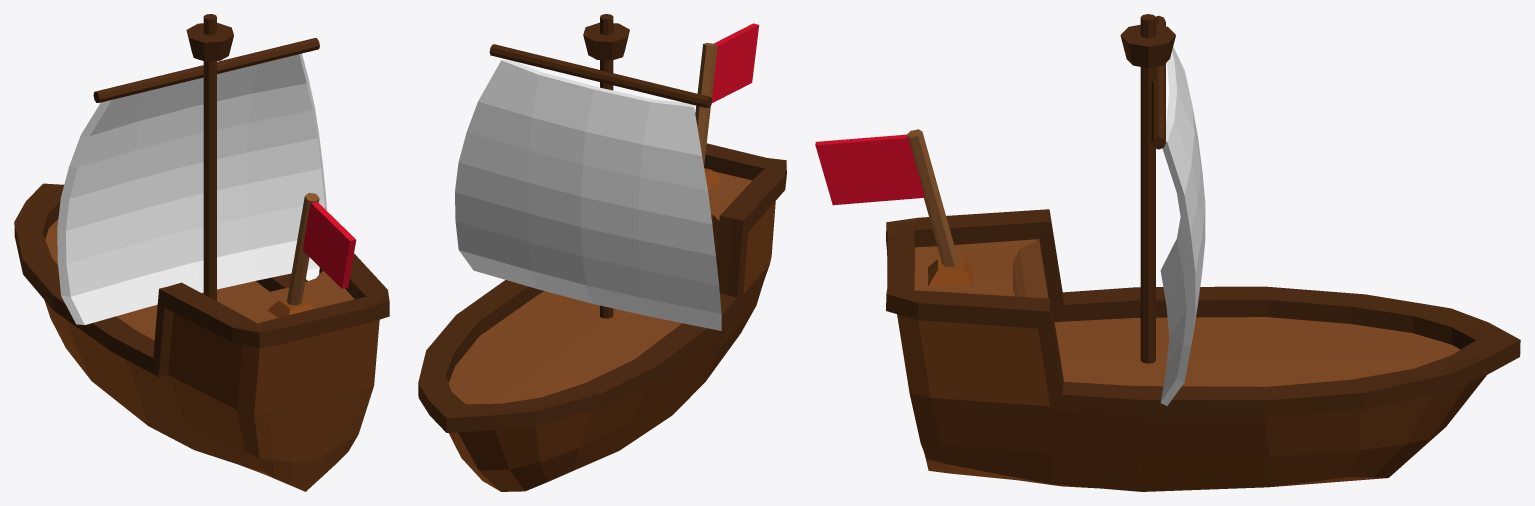
Rendered from PirateShipEasy.fbx.
3 views of the same model, side by side, from view 1: azimuth 30°, elevation 25°; view 2: azimuth 150°, elevation 25°; view 3: azimuth 270°, elevation 25° (orthographic). The views are drawn at different scales.
Visible parts, largest first — view 1: Ship, Cube.001, Mast, Cube.004, Cylinder.001, Cylinder.004, Cube.005; view 2: Cube.001, Ship, Cylinder.001, Cube.004, Mast, Cylinder.004; view 3: Ship, Cube.001, Mast, Cube.004, Cylinder.004, Cylinder.001, Cube.005.
Part boxes in pixels (x1,y1,x2,y2): Ship: [14, 183, 389, 491]; Cube.001: [57, 53, 326, 324]; Mast: [186, 14, 233, 300]; Cube.004: [302, 201, 356, 288]; Cylinder.001: [93, 38, 319, 102]; Cylinder.004: [287, 193, 319, 305]; Cube.005: [268, 298, 314, 317]; Cube.001: [455, 59, 721, 330]; Ship: [418, 143, 786, 491]; Cylinder.001: [489, 44, 712, 108]; Cube.004: [711, 23, 759, 102]; Mast: [583, 14, 629, 318]; Cylinder.004: [695, 43, 717, 165]; Ship: [886, 209, 1520, 491]; Cube.001: [1160, 47, 1205, 405]; Mast: [1120, 14, 1175, 363]; Cube.004: [815, 134, 924, 205]; Cylinder.004: [906, 129, 959, 267]; Cylinder.001: [1151, 15, 1165, 149]; Cube.005: [928, 258, 973, 286].
Bounding box in the file's own units: 4482 × 6676 × 9050.
